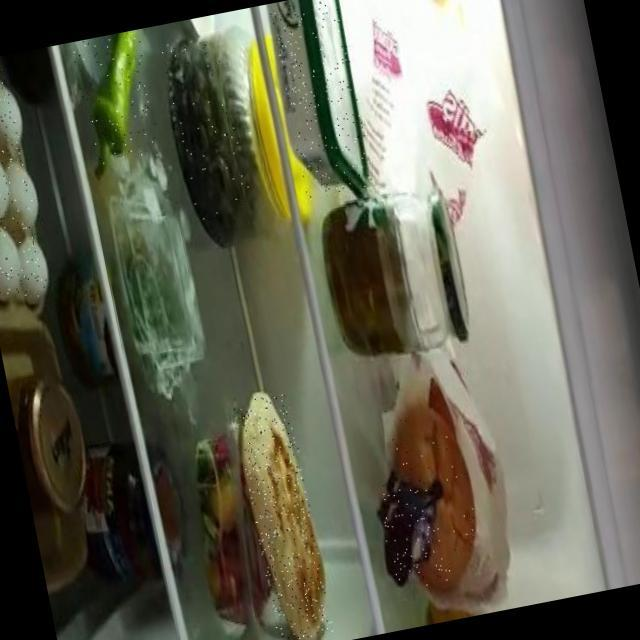Cebolla: (375, 476, 446, 586)
Huevos: (0, 65, 50, 306)
bazlama: (231, 393, 333, 640)
bread: (383, 397, 486, 594)
cream: (267, 0, 373, 199)
green chilies: (70, 30, 163, 169)
olives: (159, 34, 258, 242)
